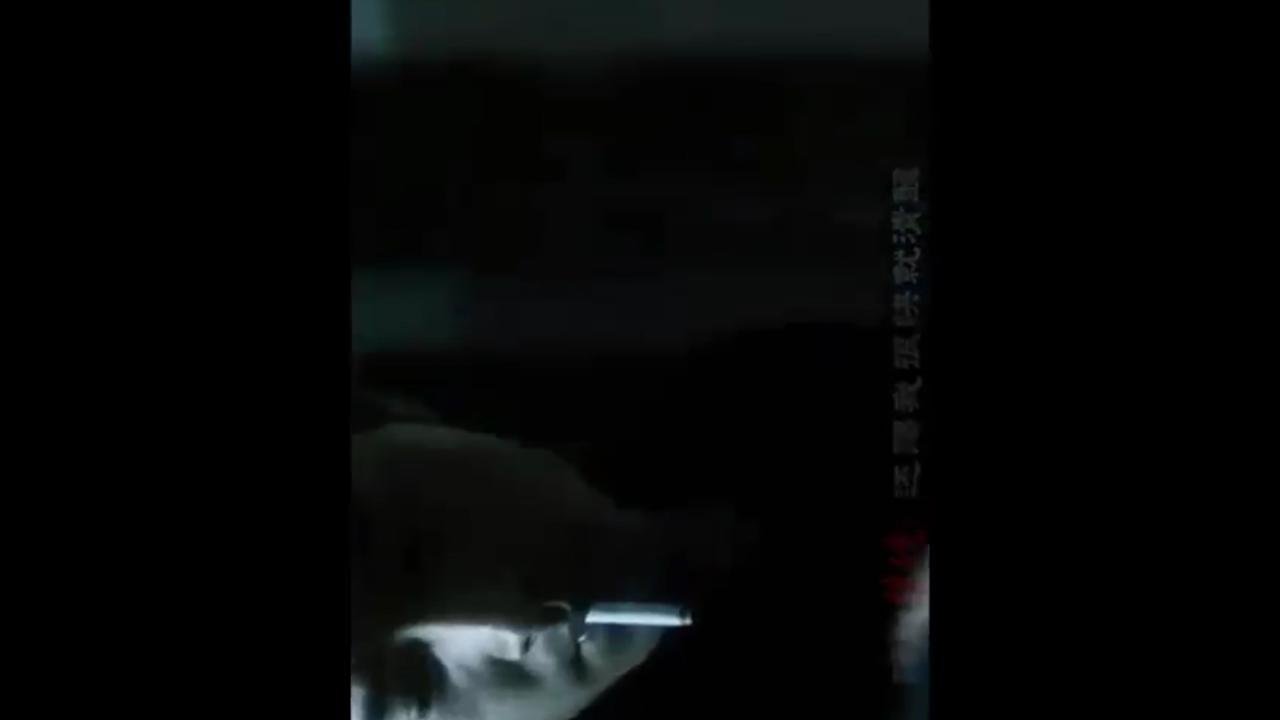Cigarette: (584, 604, 692, 627)
